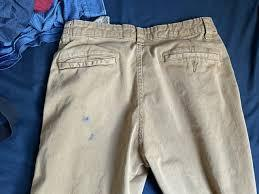ink: (88, 132, 95, 143), (81, 115, 90, 121)
